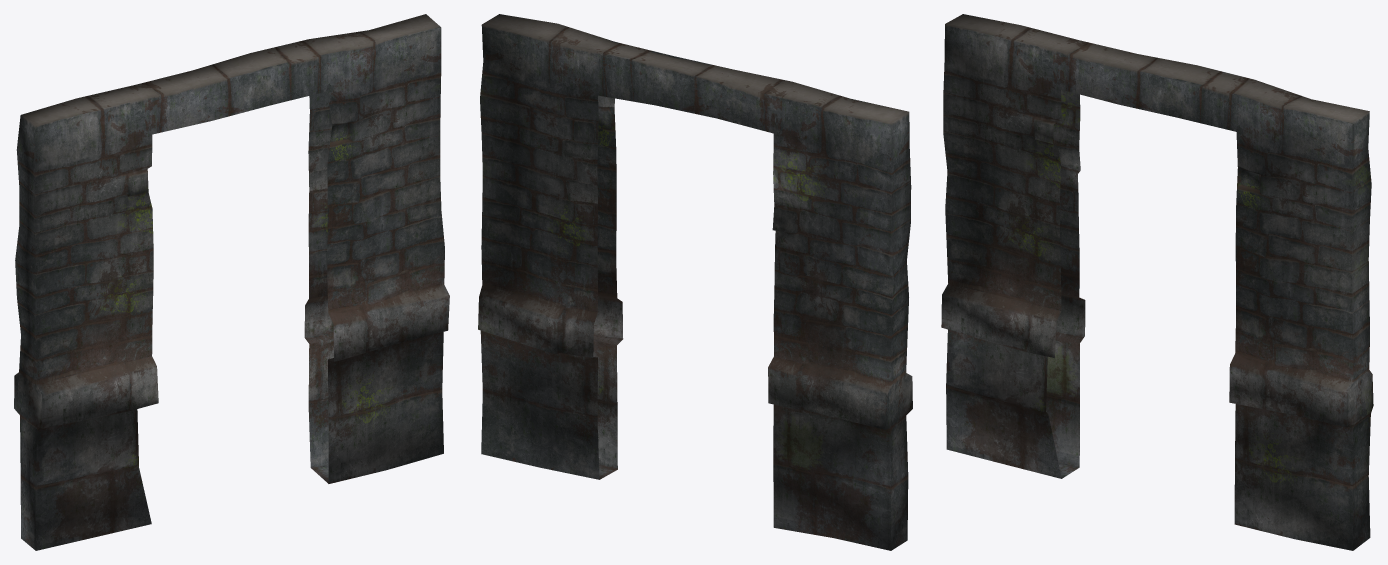
File: wall_stone_02_Mesh.FBX
3 renders of one model, left to right at view 1: azimuth 30°, elevation 25°; view 2: azimuth 150°, elevation 25°; view 3: azimuth 330°, elevation 25°, orthographic.
Parts seen in each view (by area): view 1: wall_stone_02; view 2: wall_stone_02; view 3: wall_stone_02.
Part boxes in pixels (left/top/right/bottom): wall_stone_02: left=14, top=14, right=449, bottom=550; wall_stone_02: left=478, top=14, right=912, bottom=550; wall_stone_02: left=941, top=14, right=1373, bottom=550.
Size of the model in its own units: 2.01 by 2.02 by 0.272.
